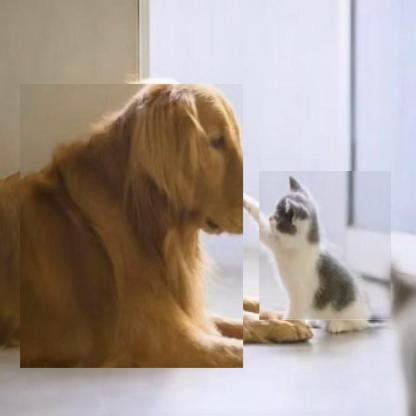cat: (259, 171, 391, 320)
dog: (20, 84, 243, 368)
